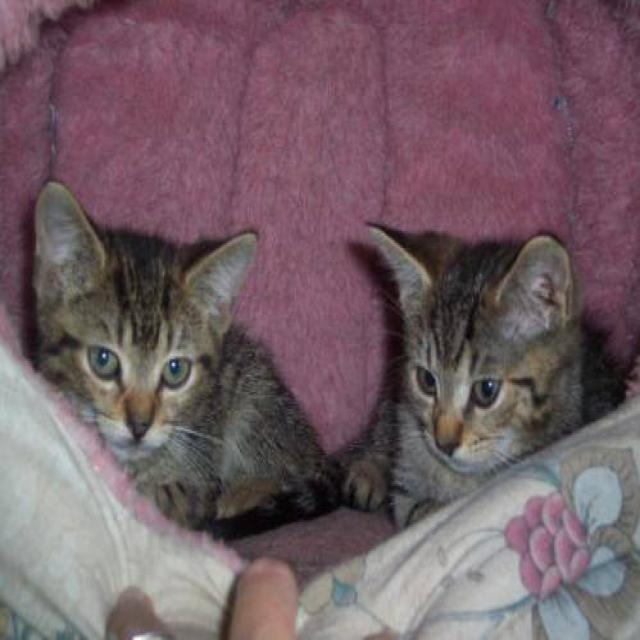cat: (30, 176, 348, 539), (338, 218, 634, 530)
